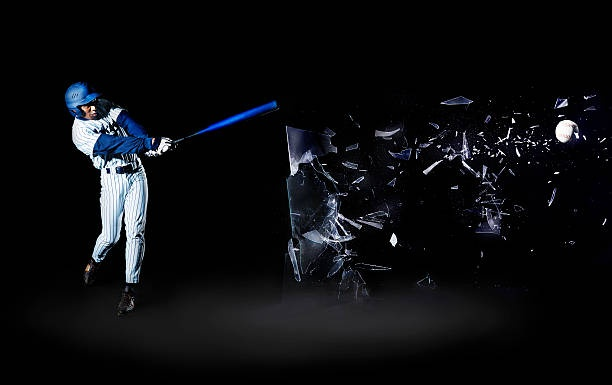bita: (167, 98, 279, 146)
